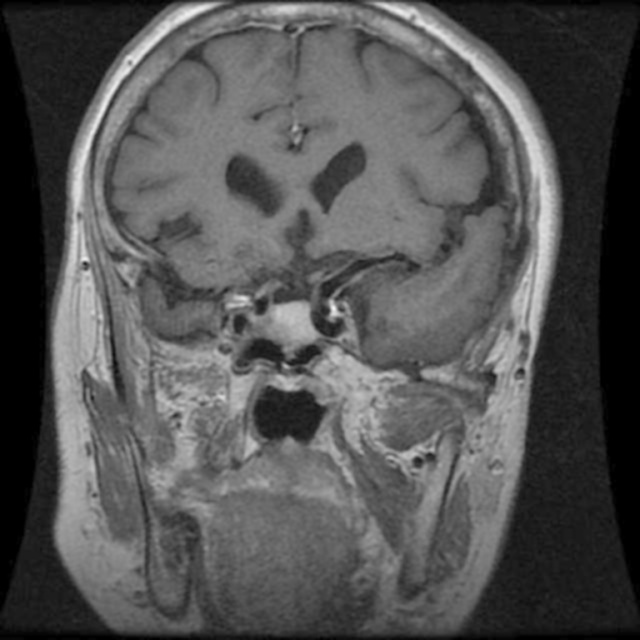no tumor: (255, 296, 324, 356)
